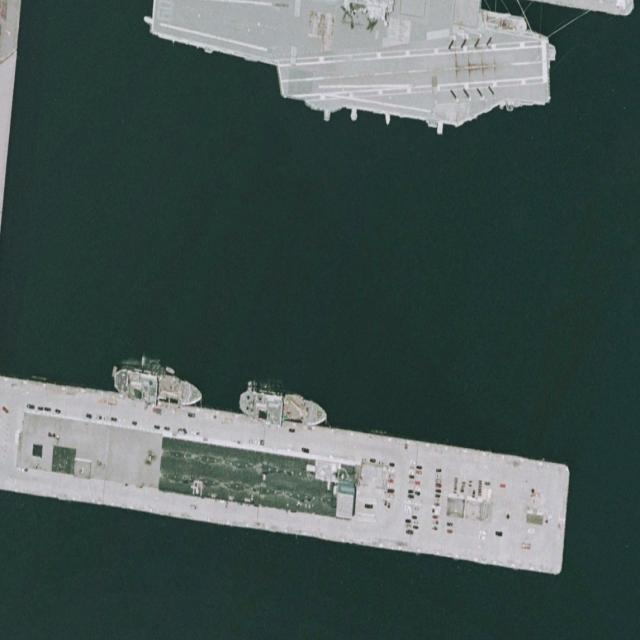Aircraft Carrier: (142, 5, 557, 136)
Dock: (11, 381, 570, 574)
Other Ship: (237, 382, 328, 433), (110, 366, 202, 408)
